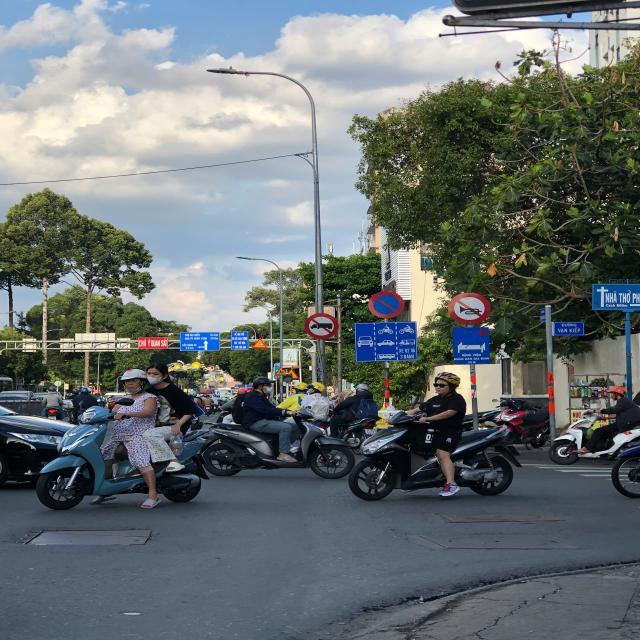Bien bao cam do xe: (363, 286, 408, 320)
Bien bao cam xe so-mi ro-mooc: (303, 311, 340, 341)
